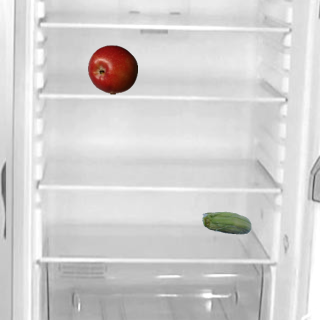Apple Braeburn: (87, 44, 137, 94)
Corn Husk: (201, 199, 251, 249)
